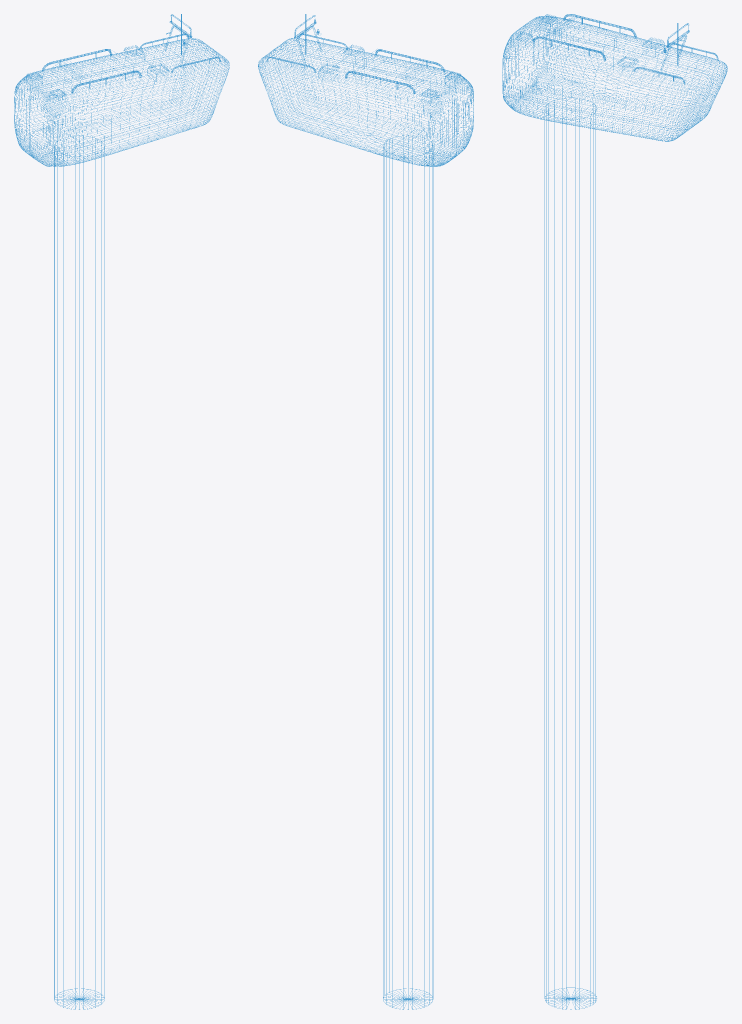
File: zhuji2.glb
3 views of the same model, side by side, from view 1: azimuth 30°, elevation 25°; view 2: azimuth 150°, elevation 25°; view 3: azimuth 330°, elevation 25° (orthographic). The views are drawn at different scales.
Parts seen in each view (by area): view 1: 扫描; view 2: 扫描; view 3: 扫描.
Boxes of the visible parts, x1,y1,x2,y2 form: 扫描: (14,14,229,1009); 扫描: (258,14,473,1009); 扫描: (502,14,727,1009).
Size of the model in its own units: 45.37 by 227 by 17.36.
